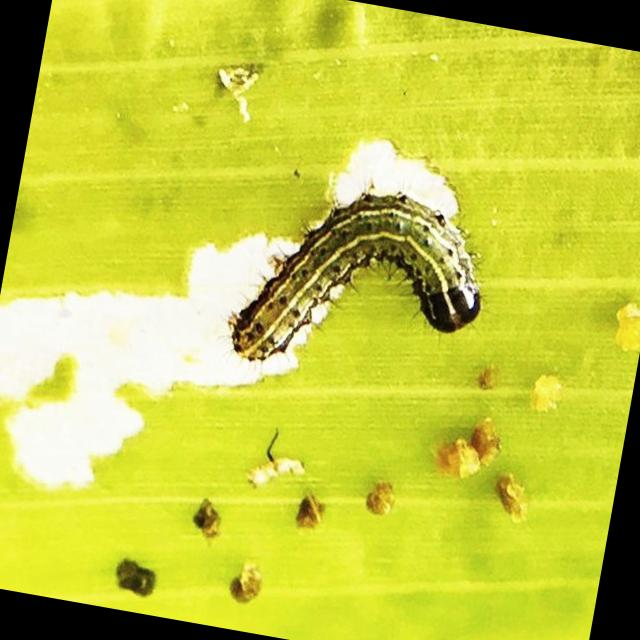pest: (221, 181, 503, 378)
